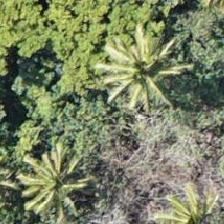coconut_tree: (93, 30, 183, 120), (0, 140, 90, 223)
